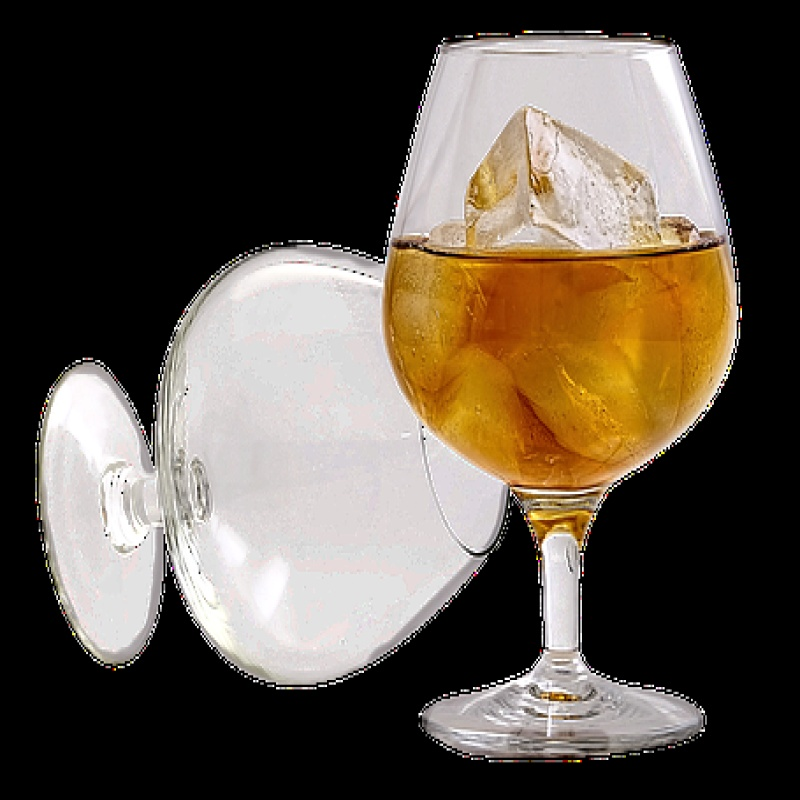whiskey: (400, 18, 731, 525)
